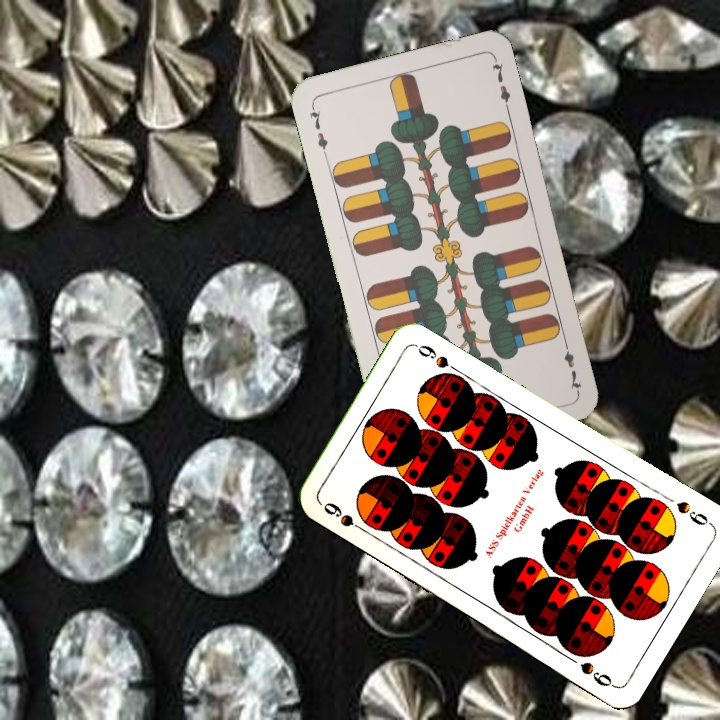E7: (305, 101, 331, 159), (559, 335, 584, 393)
S9: (319, 498, 371, 537), (672, 497, 715, 529)
